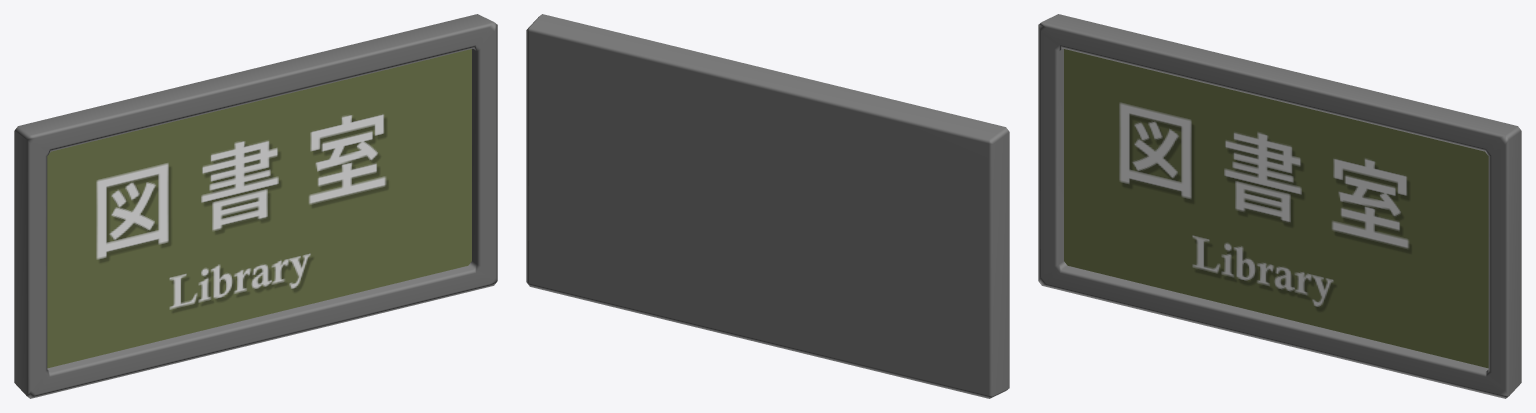
Rendered from SM_sign_library.fbx.
3 renders of one model, left to right at view 1: azimuth 30°, elevation 25°; view 2: azimuth 150°, elevation 25°; view 3: azimuth 330°, elevation 25°, orthographic.
Visible parts, largest first — view 1: sign_roomname07; view 2: sign_roomname07; view 3: sign_roomname07.
Part boxes in pixels (box(x1,y1,x2,y2)): sign_roomname07: box(14, 14, 497, 398); sign_roomname07: box(526, 14, 1009, 398); sign_roomname07: box(1038, 14, 1521, 398).
Bounding box in the file's own units: 28.58 × 15.3 × 1.67.
Materials: 2 (1 with a texture image).
